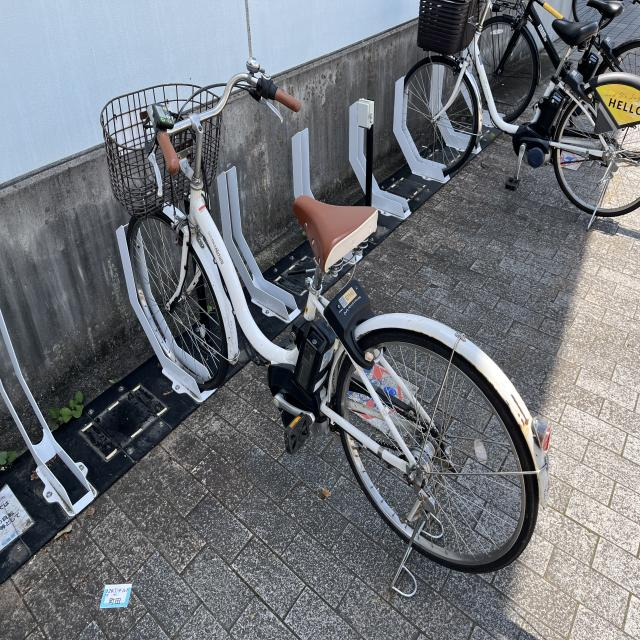basket: (97, 81, 225, 220)
battery: (298, 320, 334, 395), (537, 86, 567, 138), (584, 51, 598, 83)
